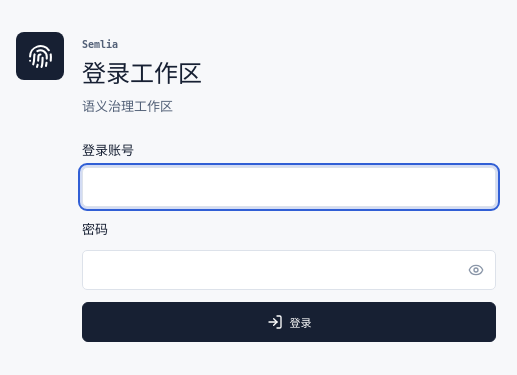
Scenario: submits passwords only in the login body and reports generic credential failures
Type "local@example.com" into the field labelled "登录账号". click: (289, 187)
box: left=82, top=167, right=496, bottom=207
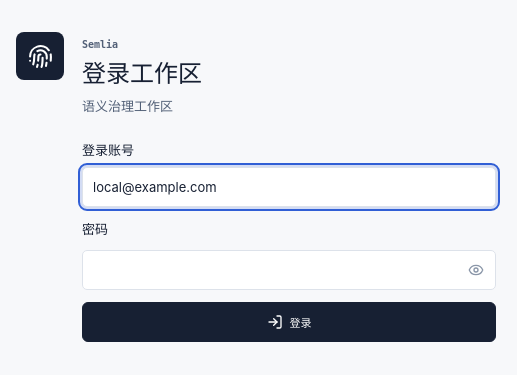
Type "Synthetic test password 123" into the password field labelled "密码". click: (289, 270)
box: left=82, top=250, right=496, bottom=290
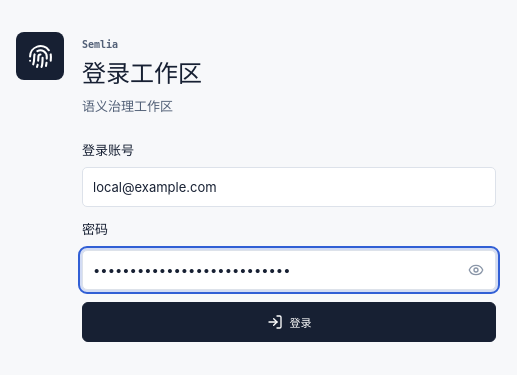
Click the button "登录". click: (289, 322)
box: left=82, top=302, right=496, bottom=342
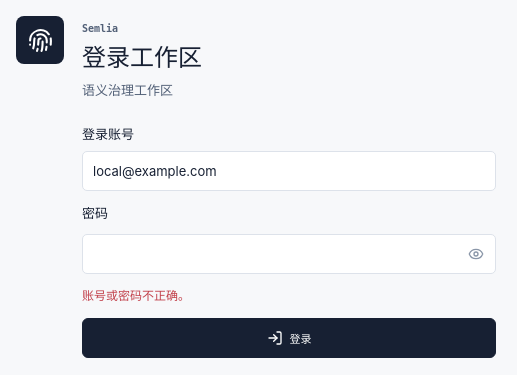
Now the message shows "账号或密码不正确", box left=82, top=288, right=190, bottom=303
Now the password field labelled "密码" is empty, box left=82, top=234, right=496, bottom=274
